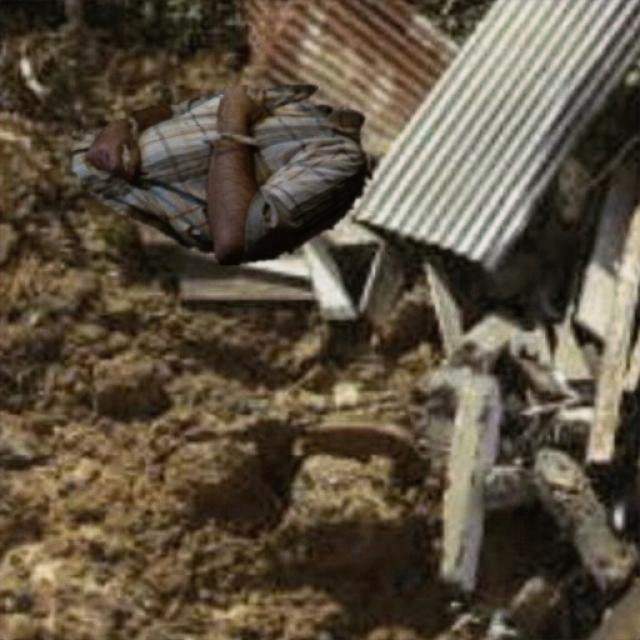Person in Rubble: (72, 85, 372, 264)
